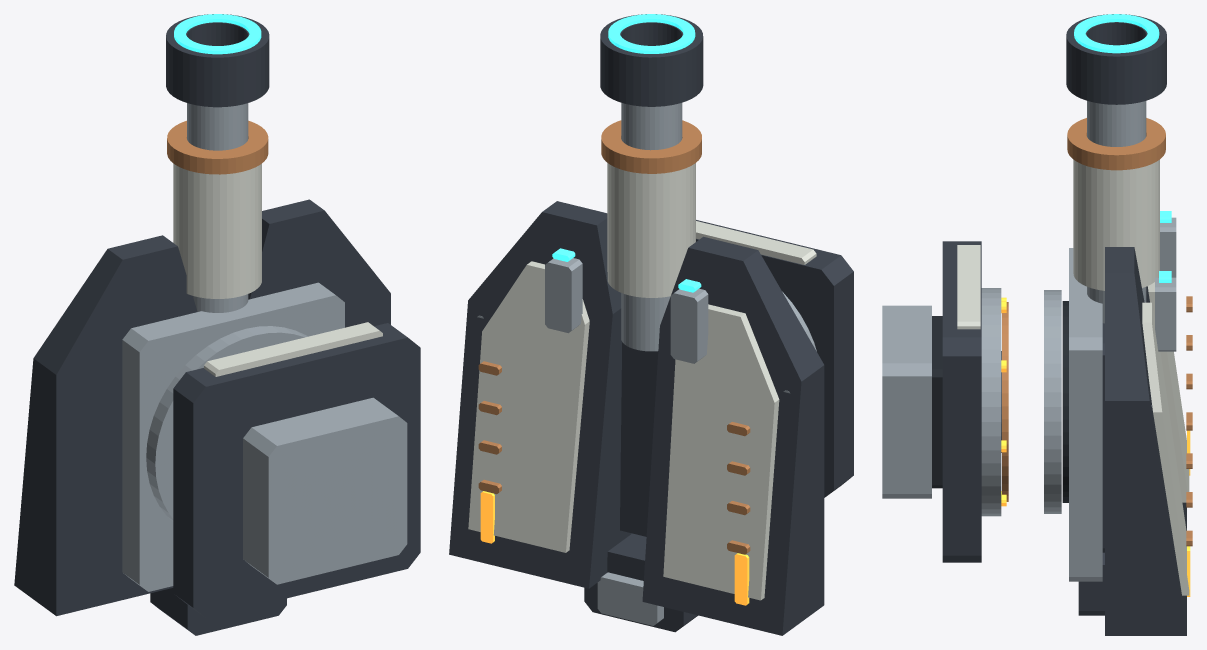
Rendered from M01-023_wedge_profile_turret.glb.
3 views of the same model, side by side, from view 1: azimuth 30°, elevation 25°; view 2: azimuth 150°, elevation 25°; view 3: azimuth 270°, elevation 25° (orthographic). The views are drawn at different scales.
Parts seen in each view (by area): view 1: M01_023_Wedge_Armor_Left, M01_023_Pedestal_Armored_Shoe, M01_023_Mount_Top_Key, M01_023_Turret_Internal_Spine, M01_023_Barrel_Ceramic_Shroud, M01_023_Wedge_Armor_Right, M01_023_Muzzle_Brake_Outer, M01_023_Turret_Rotating_Slew_Ring, M01_023_Barrel_Inner_Tube, M01_023_Barrel_Copper_Heat_Band, M01_023_Pedestal_Ceramic_Front, M01_023_Rear_Ammo_Cassette (+1 smaller); view 2: M01_023_Wedge_Armor_Left, M01_023_Wedge_Armor_Right, M01_023_Wedge_Ceramic_Left, M01_023_Wedge_Ceramic_Right, M01_023_Barrel_Ceramic_Shroud, M01_023_Pedestal_Armored_Shoe, M01_023_Muzzle_Brake_Outer, M01_023_Turret_Central_Receiver, M01_023_Barrel_Inner_Tube, M01_023_Barrel_Copper_Heat_Band, M01_023_Optic_Pod_L, M01_023_Optic_Pod_R (+6 smaller); view 3: M01_023_Wedge_Armor_Right, M01_023_Pedestal_Armored_Shoe, M01_023_Turret_Internal_Spine, M01_023_Mount_Top_Key, M01_023_Barrel_Ceramic_Shroud, M01_023_Muzzle_Brake_Outer, M01_023_Stationary_Bearing_Race, M01_023_Wedge_Ceramic_Right, M01_023_Turret_Rotating_Slew_Ring, M01_023_Barrel_Copper_Heat_Band, M01_023_Barrel_Inner_Tube, M01_023_Wedge_Ceramic_Left (+9 smaller).
Boxes of the visible parts, bbox=[...] form: M01_023_Wedge_Armor_Left: bbox=[14, 235, 197, 616]; M01_023_Pedestal_Armored_Shoe: bbox=[173, 323, 420, 617]; M01_023_Mount_Top_Key: bbox=[243, 397, 407, 584]; M01_023_Turret_Internal_Spine: bbox=[122, 282, 344, 591]; M01_023_Barrel_Ceramic_Shroud: bbox=[173, 163, 261, 298]; M01_023_Wedge_Armor_Right: bbox=[248, 199, 390, 327]; M01_023_Muzzle_Brake_Outer: bbox=[166, 14, 269, 107]; M01_023_Turret_Rotating_Slew_Ring: bbox=[146, 326, 307, 521]; M01_023_Barrel_Inner_Tube: bbox=[187, 103, 248, 312]; M01_023_Barrel_Copper_Heat_Band: bbox=[167, 120, 268, 174]; M01_023_Pedestal_Ceramic_Front: bbox=[204, 322, 382, 376]; M01_023_Rear_Ammo_Cassette: bbox=[150, 588, 286, 635]; M01_023_Wedge_Armor_Left: bbox=[642, 236, 824, 635]; M01_023_Wedge_Armor_Right: bbox=[449, 201, 631, 588]; M01_023_Wedge_Ceramic_Left: bbox=[663, 304, 779, 600]; M01_023_Wedge_Ceramic_Right: bbox=[468, 261, 589, 552]; M01_023_Barrel_Ceramic_Shroud: bbox=[607, 163, 695, 297]; M01_023_Pedestal_Armored_Shoe: bbox=[696, 220, 853, 497]; M01_023_Muzzle_Brake_Outer: bbox=[600, 14, 703, 106]; M01_023_Turret_Central_Receiver: bbox=[620, 342, 658, 536]; M01_023_Barrel_Inner_Tube: bbox=[621, 102, 682, 351]; M01_023_Barrel_Copper_Heat_Band: bbox=[601, 120, 701, 173]; M01_023_Optic_Pod_L: bbox=[670, 288, 708, 363]; M01_023_Optic_Pod_R: bbox=[545, 258, 582, 333]; M01_023_Wedge_Armor_Right: bbox=[1105, 247, 1186, 635]; M01_023_Pedestal_Armored_Shoe: bbox=[942, 241, 981, 562]; M01_023_Turret_Internal_Spine: bbox=[1069, 248, 1102, 581]; M01_023_Mount_Top_Key: bbox=[882, 305, 931, 498]; M01_023_Barrel_Ceramic_Shroud: bbox=[1073, 159, 1159, 290]; M01_023_Muzzle_Brake_Outer: bbox=[1066, 14, 1166, 104]; M01_023_Stationary_Bearing_Race: bbox=[981, 288, 1001, 516]; M01_023_Wedge_Ceramic_Right: bbox=[1142, 302, 1189, 595]; M01_023_Turret_Rotating_Slew_Ring: bbox=[1044, 290, 1061, 513]; M01_023_Barrel_Copper_Heat_Band: bbox=[1067, 118, 1165, 170]; M01_023_Barrel_Inner_Tube: bbox=[1087, 101, 1146, 323]; M01_023_Wedge_Ceramic_Left: bbox=[1147, 282, 1189, 502].
Bounding box in the file's own units: 1.06 × 1.75 × 0.874.
